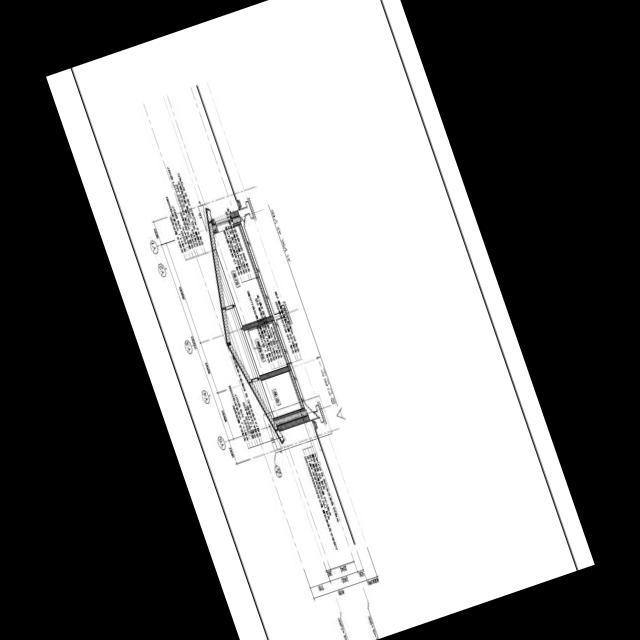background: (46, 0, 594, 640)
space_bedroom: (213, 223, 272, 324)
space_kitchen: (261, 369, 304, 417)
space_other: (225, 305, 259, 378), (216, 251, 234, 306), (252, 378, 273, 417)
space_toilet: (244, 319, 289, 374)
